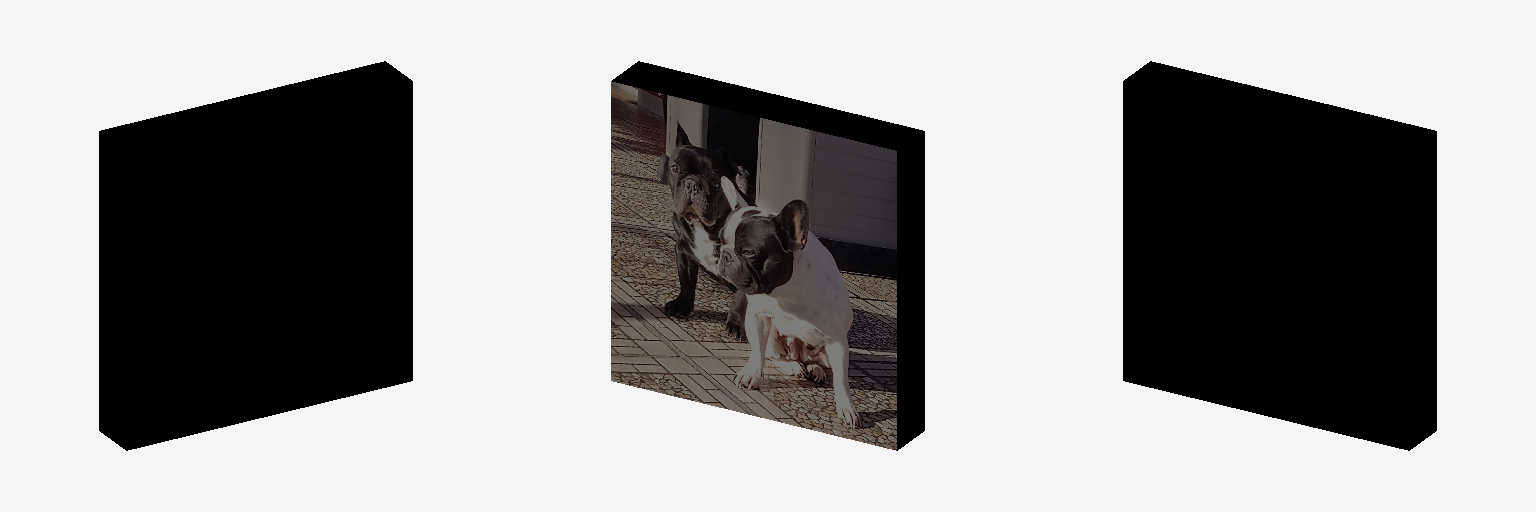
3 renders of one model, left to right at view 1: azimuth 30°, elevation 25°; view 2: azimuth 150°, elevation 25°; view 3: azimuth 330°, elevation 25°, orthographic.
Parts seen in each view (by area): view 1: Box001; view 2: Box001; view 3: Box001.
Part boxes in pixels (bbox=[...]): Box001: bbox=[99, 61, 412, 450]; Box001: bbox=[611, 61, 924, 450]; Box001: bbox=[1123, 61, 1436, 450].
Size of the model in its own units: 6 by 6 by 1.
2 materials, 2 textured.